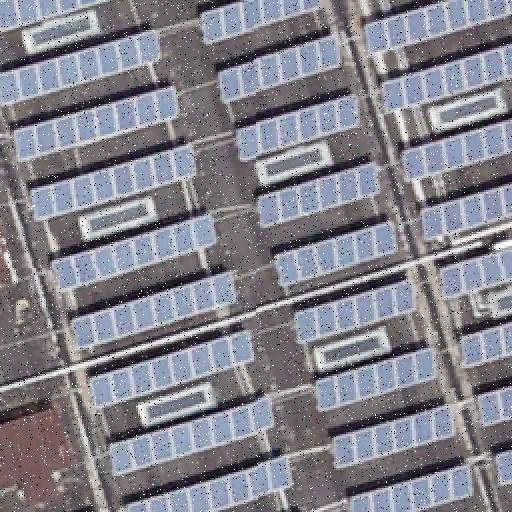solar-panel: (87, 327, 257, 409), (70, 267, 238, 349), (51, 212, 221, 292), (30, 144, 198, 224), (109, 394, 275, 474), (13, 85, 179, 163), (0, 29, 160, 107), (126, 452, 294, 512), (217, 31, 343, 105), (384, 45, 512, 115), (364, 0, 512, 60), (273, 217, 399, 287), (257, 161, 383, 231), (233, 93, 359, 163), (293, 276, 419, 344), (315, 345, 437, 415), (332, 402, 456, 470), (404, 120, 512, 184), (349, 464, 475, 512), (200, 0, 324, 48), (420, 181, 512, 243), (440, 248, 512, 300), (0, 0, 116, 32), (460, 317, 512, 371), (476, 385, 512, 431), (496, 449, 512, 487)
